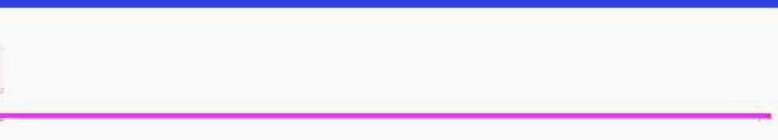EditText: (1, 1, 777, 139)
